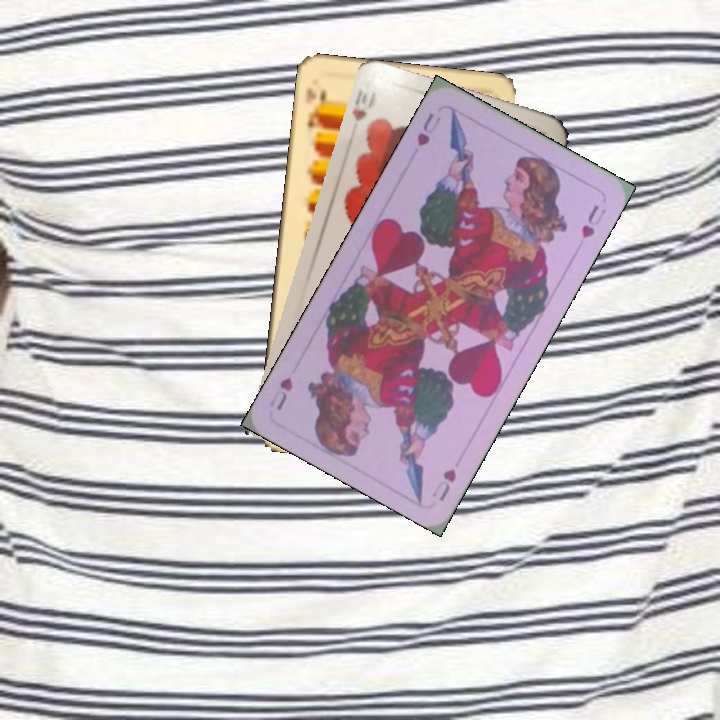E10: (304, 84, 328, 131)
H10: (349, 84, 379, 125)
HU: (427, 464, 459, 505), (412, 109, 444, 149)
